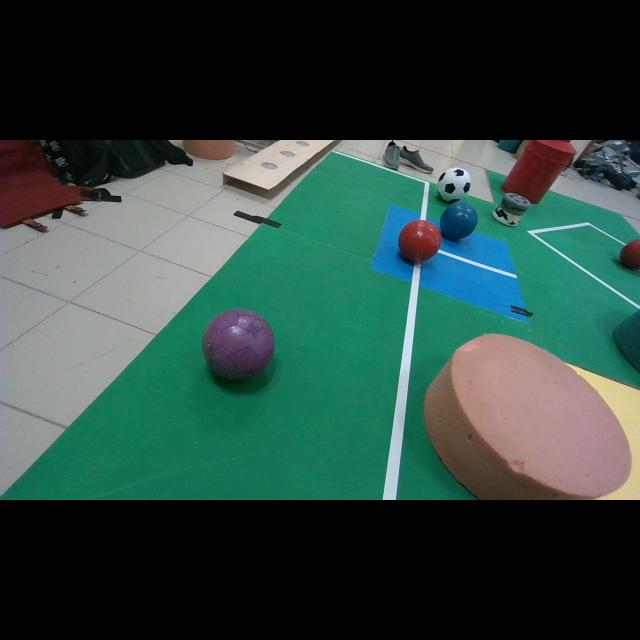B: (440, 202, 478, 240)
P: (202, 309, 275, 380)
R: (399, 220, 442, 262)
